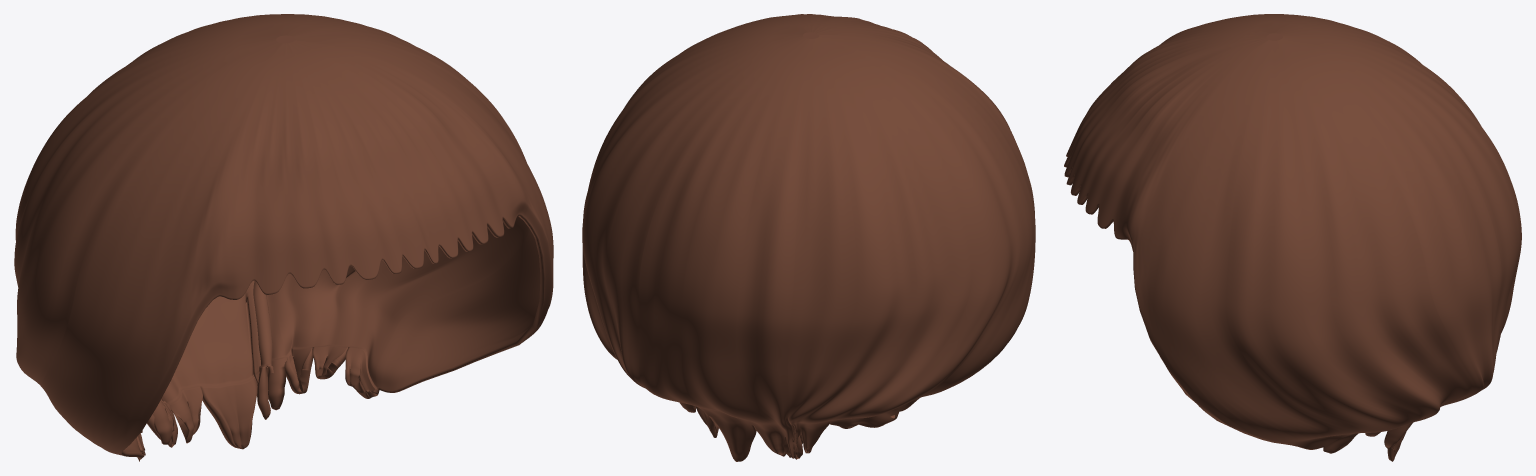
The model's file is long-pashmina.glb.
3 views of the same model, side by side, from view 1: azimuth 30°, elevation 25°; view 2: azimuth 150°, elevation 25°; view 3: azimuth 270°, elevation 25° (orthographic). The views are drawn at different scales.
Parts seen in each view (by area): view 1: Hair / rounded long fringe; view 2: Hair / rounded long fringe; view 3: Hair / rounded long fringe.
Boxes of the visible parts, x1,y1,x2,y2 form: Hair / rounded long fringe: (14, 14, 553, 461); Hair / rounded long fringe: (582, 14, 1035, 461); Hair / rounded long fringe: (1064, 14, 1521, 461).
Size of the model in its own units: 0.8406 by 0.778 by 0.7781.
